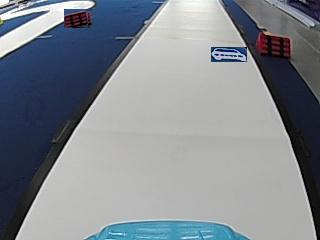bomb: (255, 32, 291, 57)
